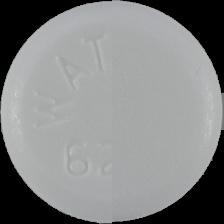52544-629: (0, 0, 224, 224)
